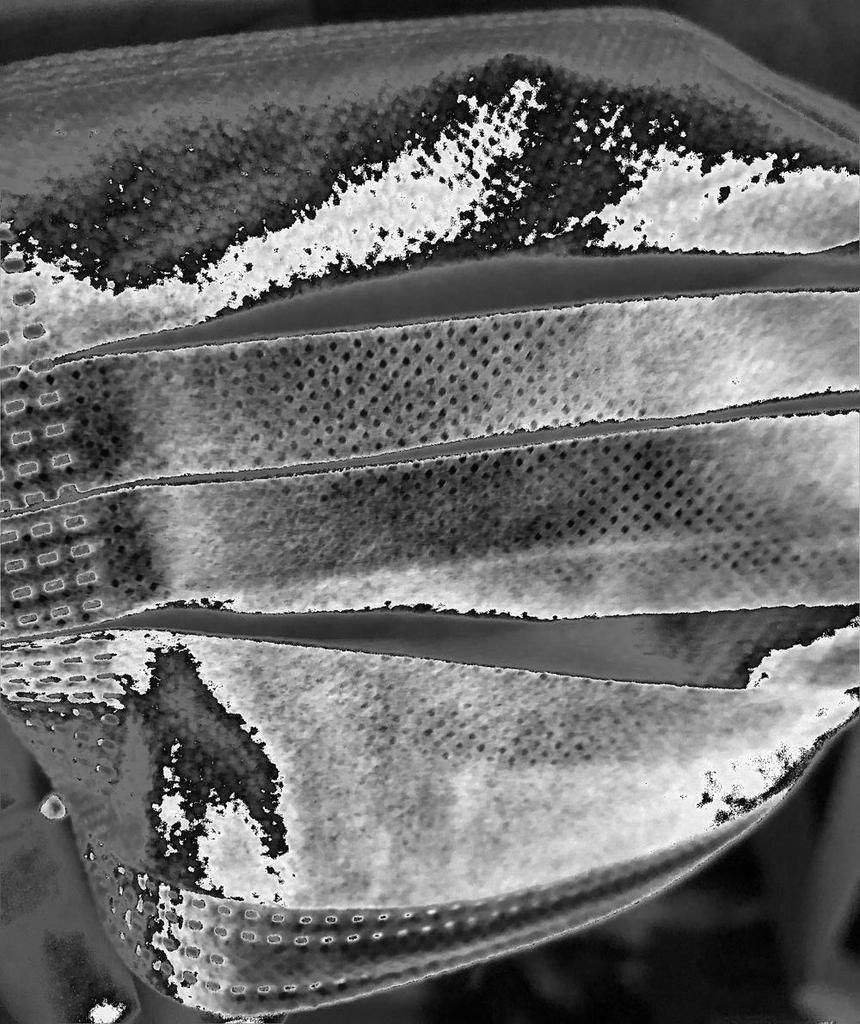Low GSM: (109, 106, 860, 897)
